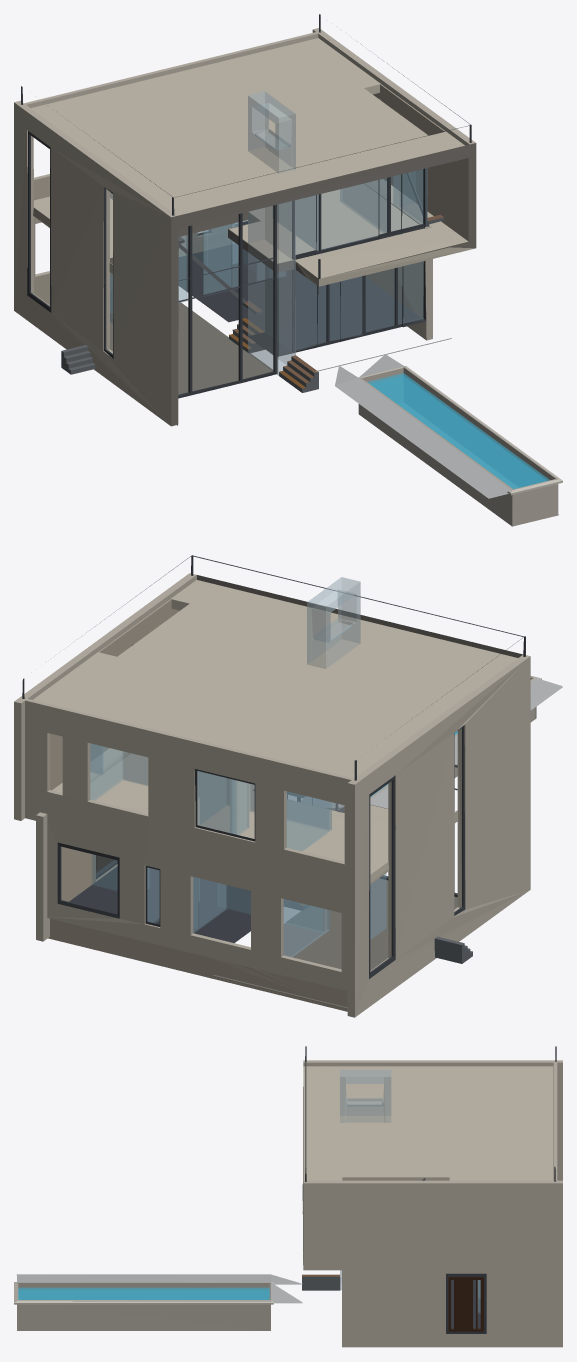
File: nha-3-villa.glb
3 views of the same model, one above another, from view 1: azimuth 30°, elevation 25°; view 2: azimuth 150°, elevation 25°; view 3: azimuth 270°, elevation 25° (orthographic). The views are drawn at different scales.
Parts seen in each view (by area): view 1: Villa ho boi (modern luxury villa with pool); view 2: Villa ho boi (modern luxury villa with pool); view 3: Villa ho boi (modern luxury villa with pool).
Part boxes in pixels (bbox=[...]): Villa ho boi (modern luxury villa with pool): bbox=[14, 14, 562, 526]; Villa ho boi (modern luxury villa with pool): bbox=[14, 555, 562, 1017]; Villa ho boi (modern luxury villa with pool): bbox=[14, 1046, 562, 1347].
Bounding box in the file's own units: 6.34 × 5.06 × 11.08.
